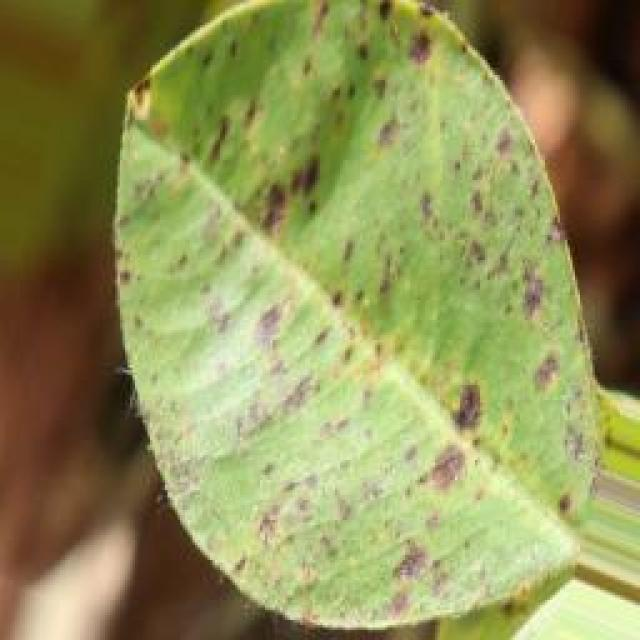Yellowish: (91, 18, 598, 640)
